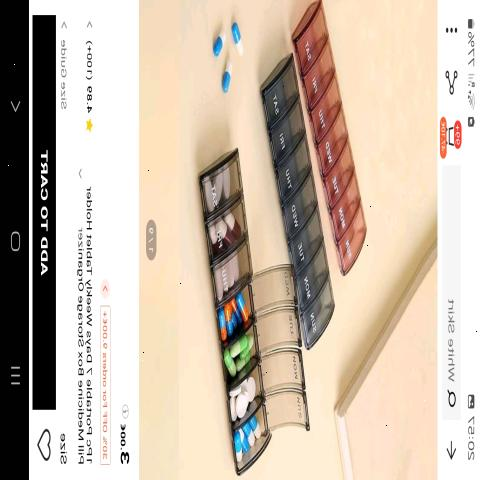PillBox: (250, 38, 340, 360)
